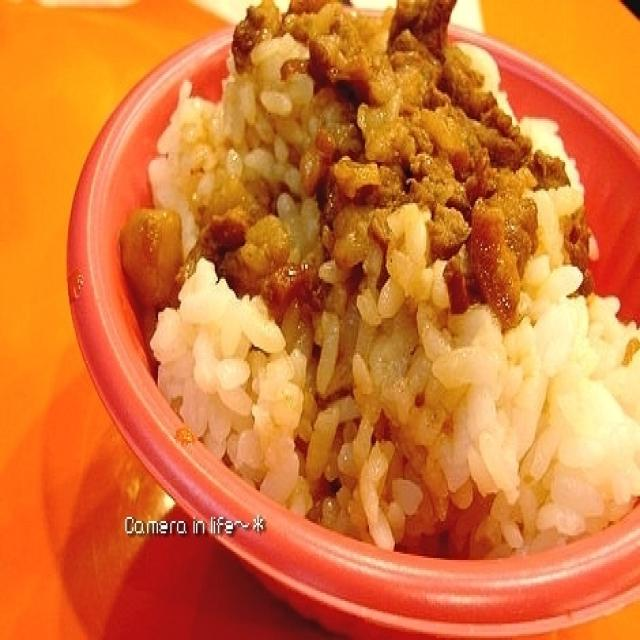猪肉菜式: (73, 2, 636, 615)
